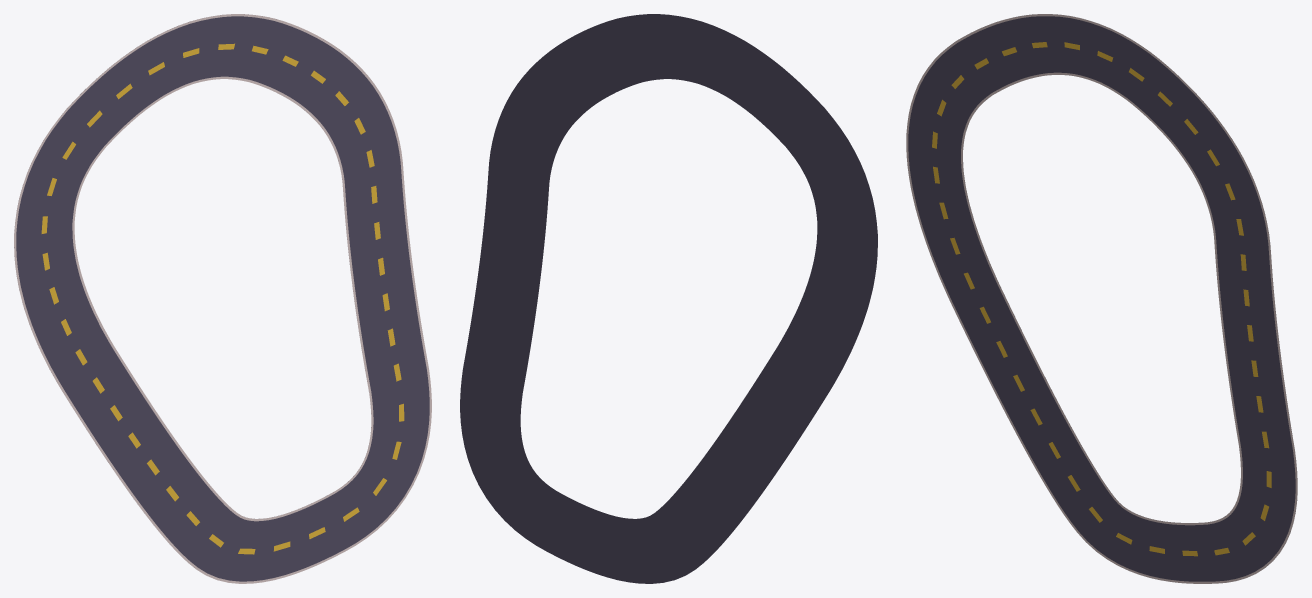
File: track.obj
3 views of the same model, side by side, from view 1: azimuth 30°, elevation 25°; view 2: azimuth 150°, elevation 25°; view 3: azimuth 330°, elevation 25° (orthographic). The views are drawn at different scales.
Bounding box in the file's own units: 7.67 × 10.17 × 0.002.
Materials: 3 (3 with a texture image).
